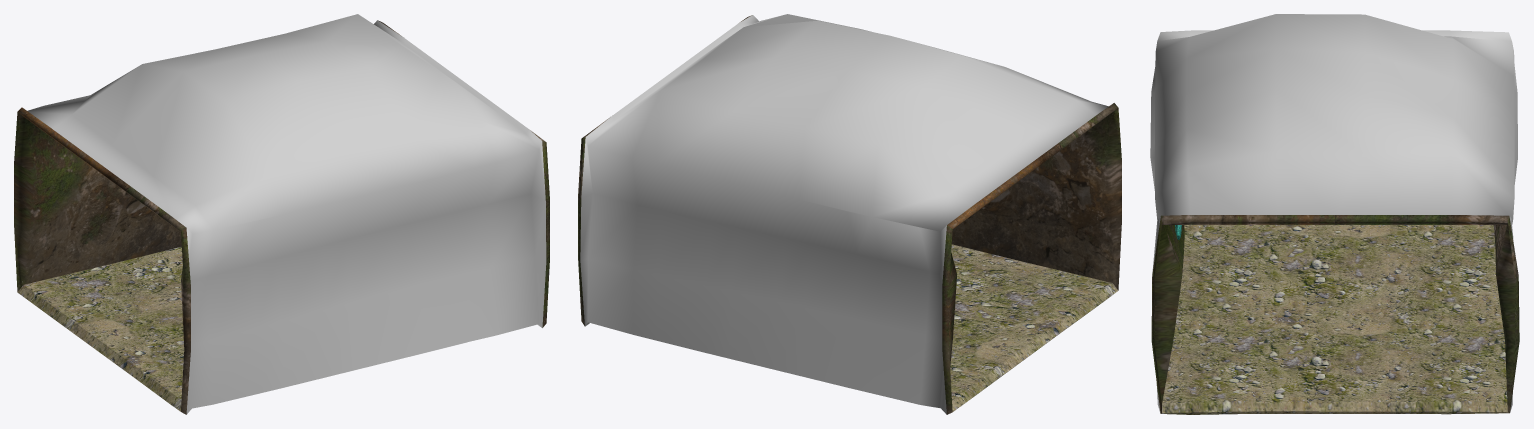
The model's file is passage_crash_root.obj.
3 renders of one model, left to right at view 1: azimuth 30°, elevation 25°; view 2: azimuth 150°, elevation 25°; view 3: azimuth 270°, elevation 25°, orthographic. The views are drawn at different scales.
Parts seen in each view (by area): view 1: Passage_crash_root; view 2: Passage_crash_root; view 3: Passage_crash_root.
Boxes of the visible parts, <box> form: Passage_crash_root: <box>14,14,549,414</box>; Passage_crash_root: <box>578,14,1121,414</box>; Passage_crash_root: <box>1150,14,1519,414</box>.
Bounding box in the file's own units: 496 × 328 × 410.
